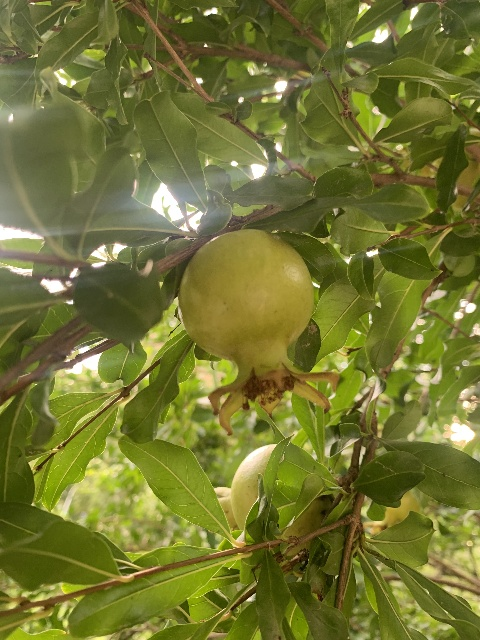mid-growth: (178, 229, 338, 435), (213, 443, 276, 530)
